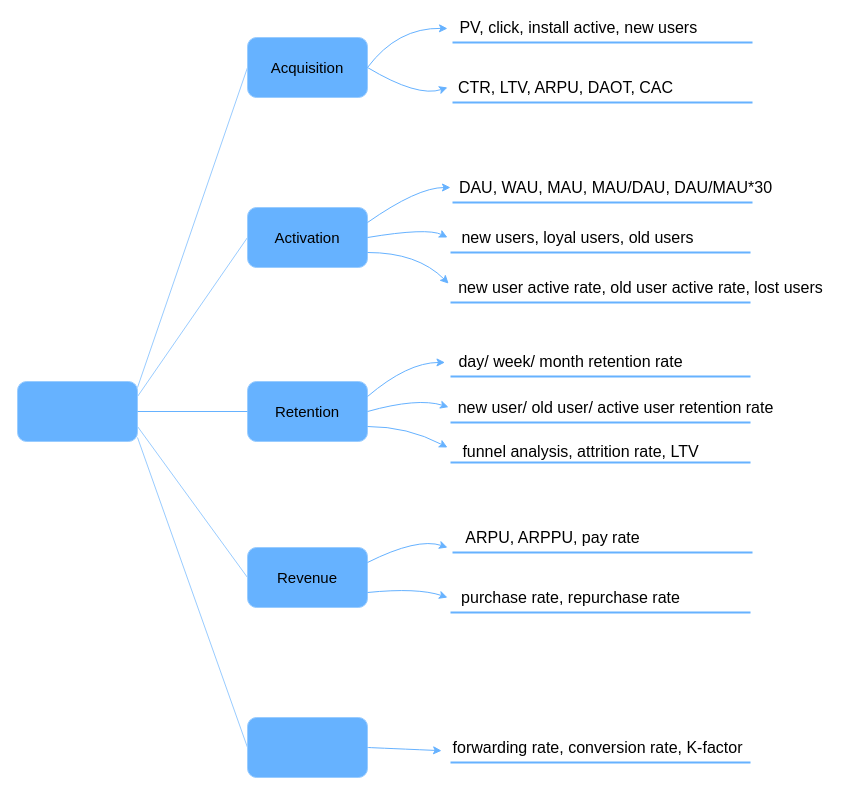
The diagram is 848 pixels wide and 795 high, and some of its shapes have lost their labels. Here are the shapes that lost their labels. From the top down, the centre of each, then its label:
At (77,411): "AARRR framework".
At (307,747): "Refer".
